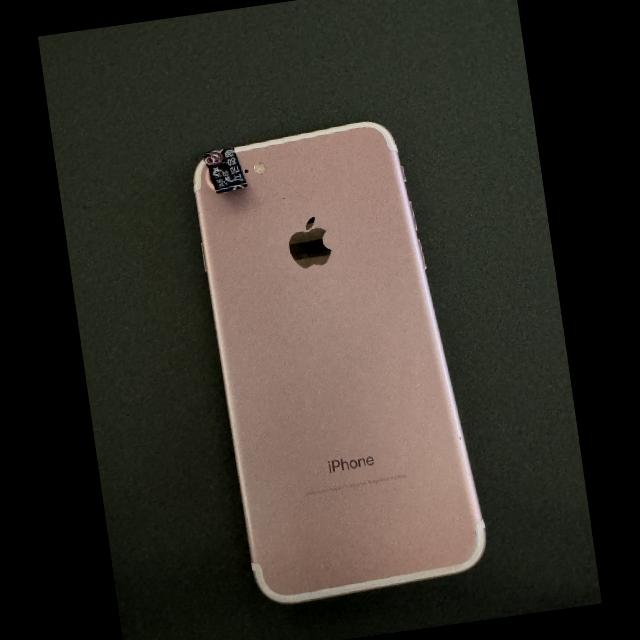phone: (194, 122, 486, 603)
sticker: (202, 146, 248, 195)
